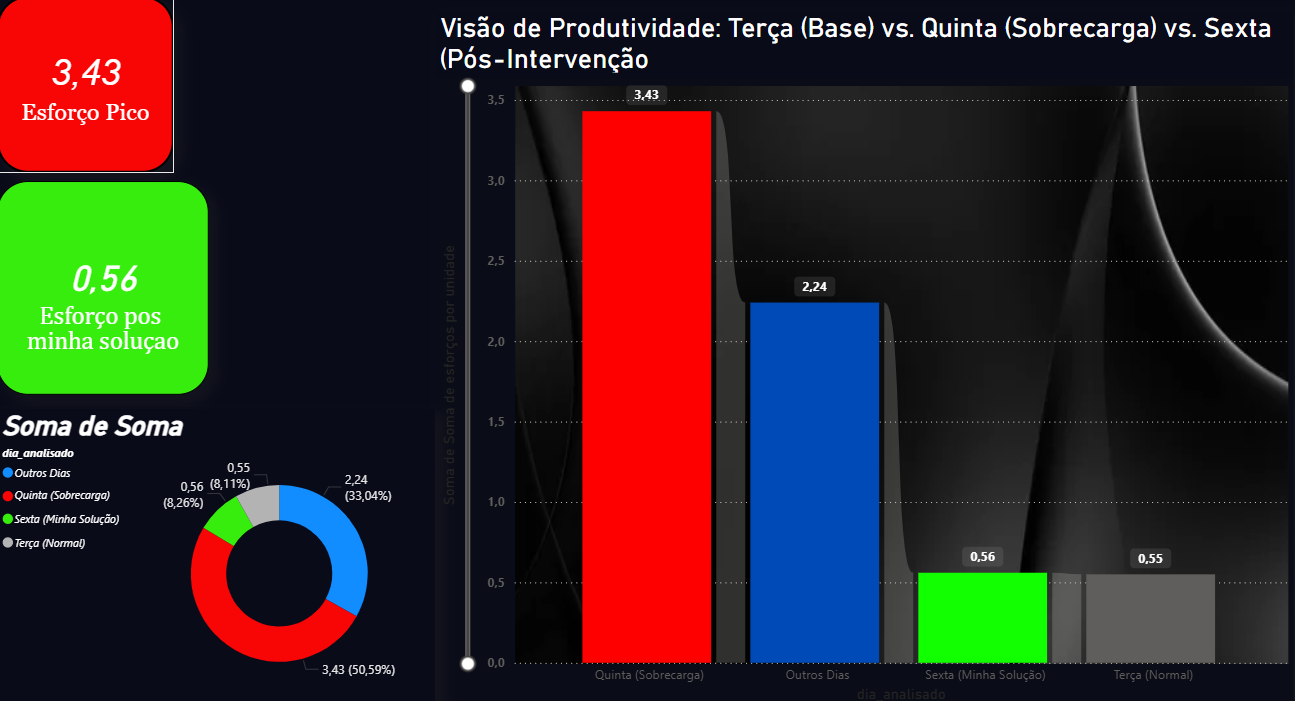

What the dashboard file says about the page in this screenshot:
{"tool":"powerbi","page":{"name":"Página 1","canvas":[1280,720],"ordinal":0},"visuals":[{"type":"columnChart","title":"Visão de Produtividade: Terça (Base) vs. Quinta (Sobrecarga) vs. Sexta (Pós-Intervenção","fields":{"Category":["Consulta1.dia_analisado"],"Y":["Sum(Consulta1.esforço_por_unidade)"]},"box":[426,42.8,834.5,677],"z":0},{"type":"card","fields":{"Values":["Sum(Consulta1.esforço_por_unidade)"]},"box":[0,28.2,172.2,172.2],"z":1000},{"type":"card","fields":{"Values":["Sum(Consulta1.Soma de esforços por unidade)"]},"box":[0,208.1,206.2,208.1],"z":2000},{"type":"donutChart","title":"Soma de Soma","fields":{"Y":["Sum(Consulta1.Soma de esforços por unidade)"],"Series":["Consulta1.dia_analisado"]},"box":[0,429.9,426,289.8],"z":3000}]}

Visuals, with their boxes on the page's 1280x720 design canvas (x1, y1, x2, y2). These are canvas units, not pixel positions in the 1295x701 screenshot, which may show the page scaled, cropped or inside an application window:
"Visão de Produtividade: Terça (Base) vs. Quinta (Sobrecarga) vs. Sexta (Pós-Intervenção" columnChart: (426,43,1260,720)
card - Sum(Consulta1.esforço_por_unidade): (0,28,172,200)
card - Sum(Consulta1.Soma de esforços por unidade): (0,208,206,416)
"Soma de Soma" donutChart: (0,430,426,720)
